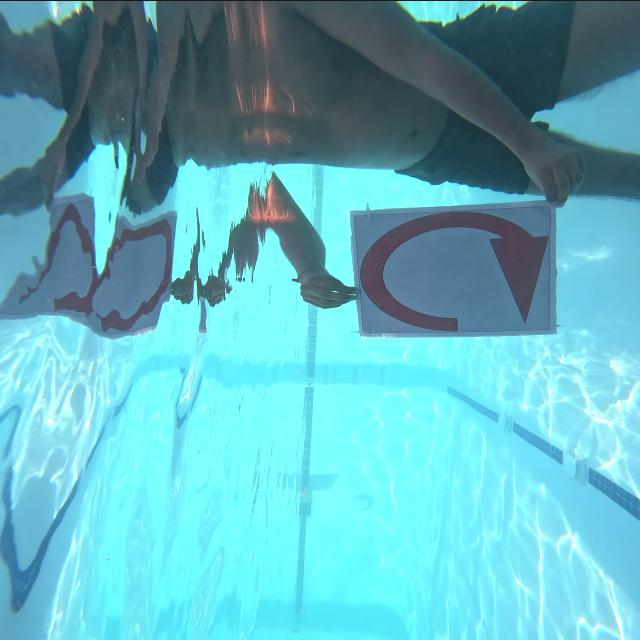red_side: (348, 189, 564, 339)
